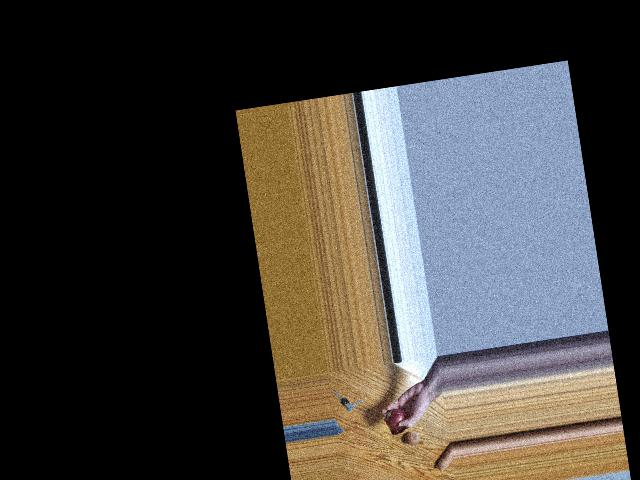onion: (403, 426, 423, 445)
